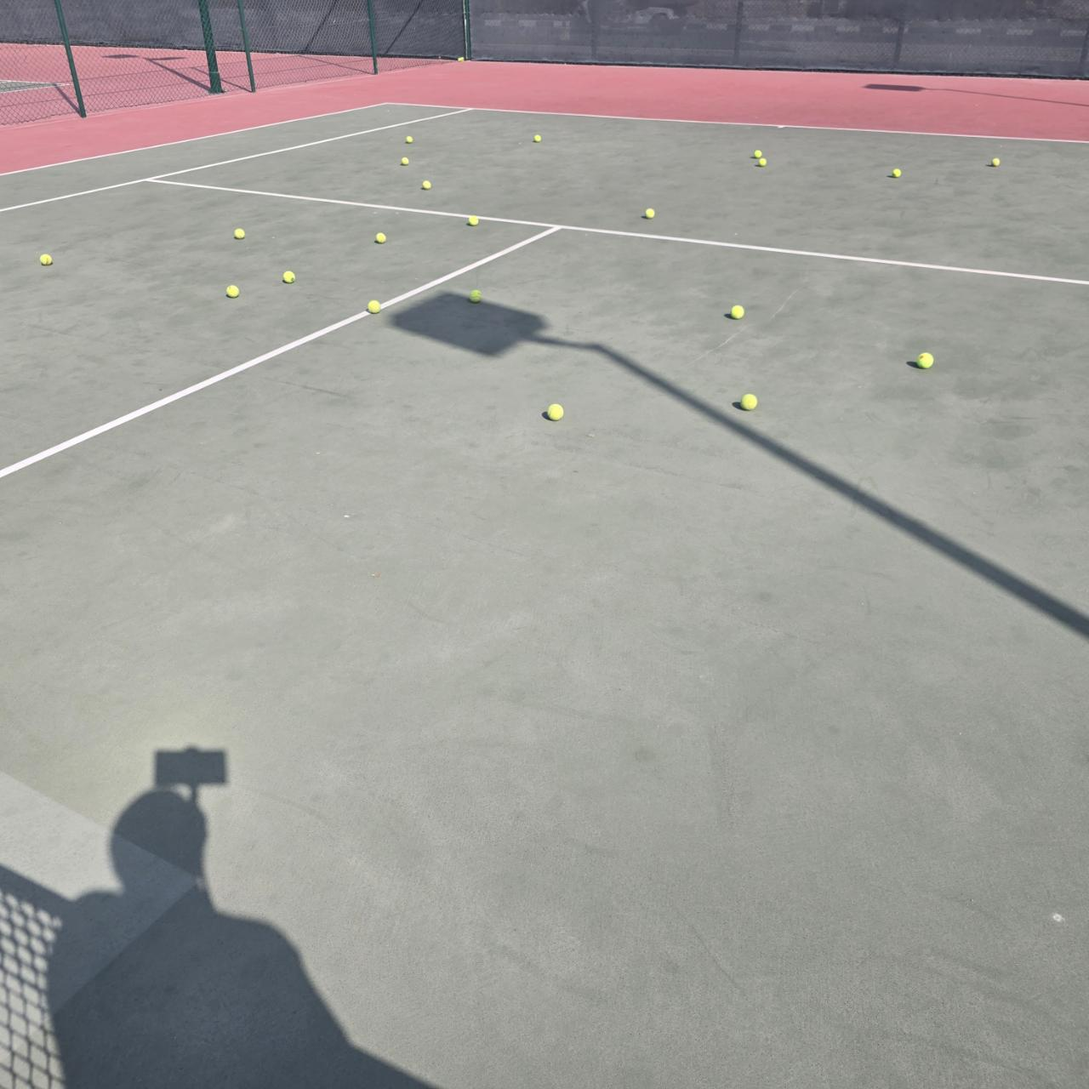tennis-ball: (544, 401, 563, 421), (739, 391, 757, 410), (915, 350, 933, 368), (728, 303, 744, 319), (365, 298, 380, 314), (224, 282, 238, 298), (37, 251, 52, 265), (468, 287, 482, 302), (281, 268, 294, 282), (232, 226, 245, 239), (465, 213, 478, 226), (373, 230, 385, 243), (643, 208, 655, 219), (891, 168, 902, 178), (421, 180, 431, 190), (758, 158, 767, 167), (991, 158, 1000, 167), (401, 156, 409, 166), (754, 149, 762, 159), (405, 135, 413, 144), (534, 135, 542, 144), (458, 57, 465, 61)
